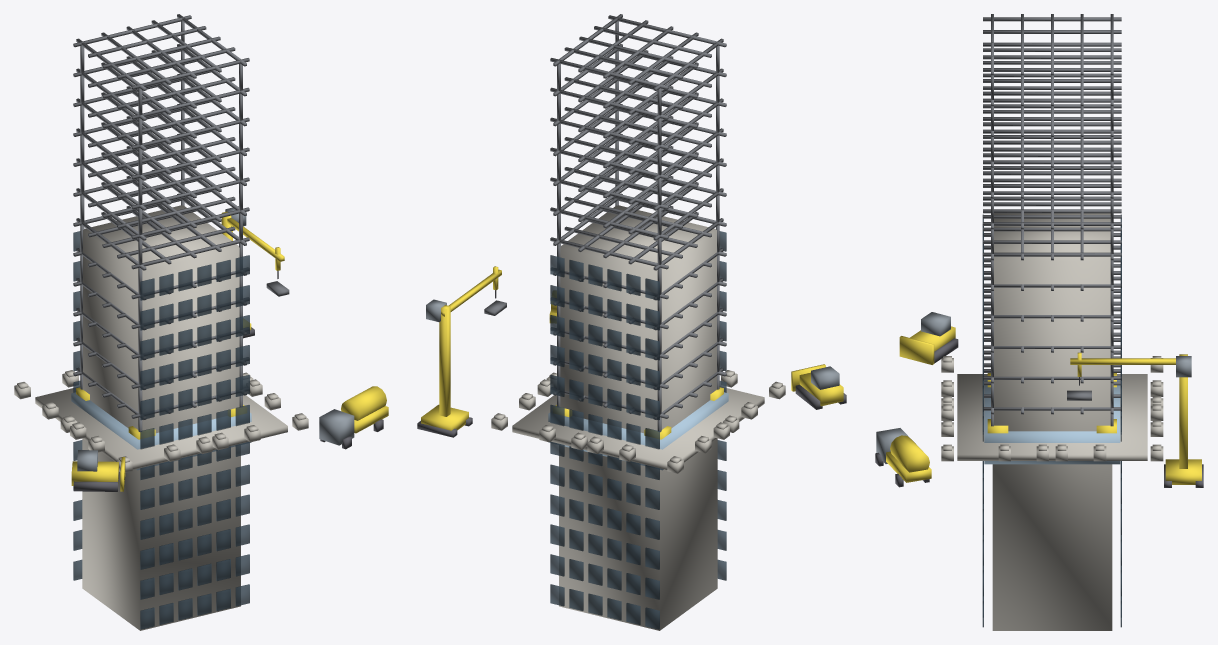
The model's file is skyscraper.glb.
The picture shows the model from 3 angles, left to right: view 1: azimuth 30°, elevation 25°; view 2: azimuth 150°, elevation 25°; view 3: azimuth 270°, elevation 25°; orthographic projection. The views are drawn at different scales.
Visible parts, largest first — view 1: ST_Body, ST_Pad, ST_FrameFloor_12, ST_FrameFloor_11, ST_FrameFloor_8, ST_FrameFloor_9, ST_FrameFloor_10, ST_FrameFloor_7, ST_FrameFloor_6, ST_Footings, ST_Windows_F10, ST_Windows_F1 (+20 smaller); view 2: ST_Body, ST_Pad, ST_FrameFloor_12, ST_FrameFloor_11, ST_FrameFloor_8, ST_FrameFloor_9, ST_FrameFloor_10, ST_FrameFloor_7, ST_Footings, ST_FrameFloor_6, ST_N_Windows_F1, ST_N_Windows_F4 (+20 smaller); view 3: ST_Body, ST_Pad, ST_FrameFloor_12, ST_FrameFloor_8, ST_FrameFloor_7, ST_FrameFloor_6, ST_FrameFloor_9, ST_FrameFloor_10, ST_FrameFloor_11, ST_Footings, ST_ShellBand_1, ST_ShellBand_2 (+14 smaller).
Boxes of the visible parts, x1,y1,x2,y2 form: ST_Body: (82,205,240,630); ST_Pad: (35,387,287,469); ST_FrameFloor_12: (73,14,249,115); ST_FrameFloor_11: (73,44,249,145); ST_FrameFloor_8: (73,133,249,234); ST_FrameFloor_9: (73,103,249,204); ST_FrameFloor_10: (73,74,249,175); ST_FrameFloor_7: (73,163,249,264); ST_FrameFloor_6: (73,193,249,294); ST_Footings: (14,370,308,472); ST_Windows_F10: (140,315,249,360); ST_Windows_F1: (140,584,249,629); ST_Body: (559,205,717,630); ST_Pad: (512,387,764,469); ST_FrameFloor_12: (550,14,726,115); ST_FrameFloor_11: (550,44,726,145); ST_FrameFloor_8: (550,133,726,234); ST_FrameFloor_9: (550,104,726,204); ST_FrameFloor_10: (550,74,726,175); ST_FrameFloor_7: (550,163,726,264); ST_Footings: (491,370,785,473); ST_FrameFloor_6: (550,193,726,294); ST_N_Windows_F1: (550,584,659,629); ST_N_Windows_F4: (550,494,659,539); ST_Body: (992,213,1112,630); ST_Pad: (957,374,1147,460); ST_FrameFloor_12: (983,14,1121,99); ST_FrameFloor_8: (983,140,1121,223); ST_FrameFloor_7: (983,171,1121,253); ST_FrameFloor_6: (983,202,1121,284); ST_FrameFloor_9: (983,110,1121,192); ST_FrameFloor_10: (983,79,1121,161); ST_FrameFloor_11: (983,48,1121,130); ST_Footings: (941,356,1163,461); ST_ShellBand_1: (984,380,1120,464); ST_ShellBand_2: (985,380,1119,463).
Size of the model in its own units: 15.95 by 27.39 by 14.49.
